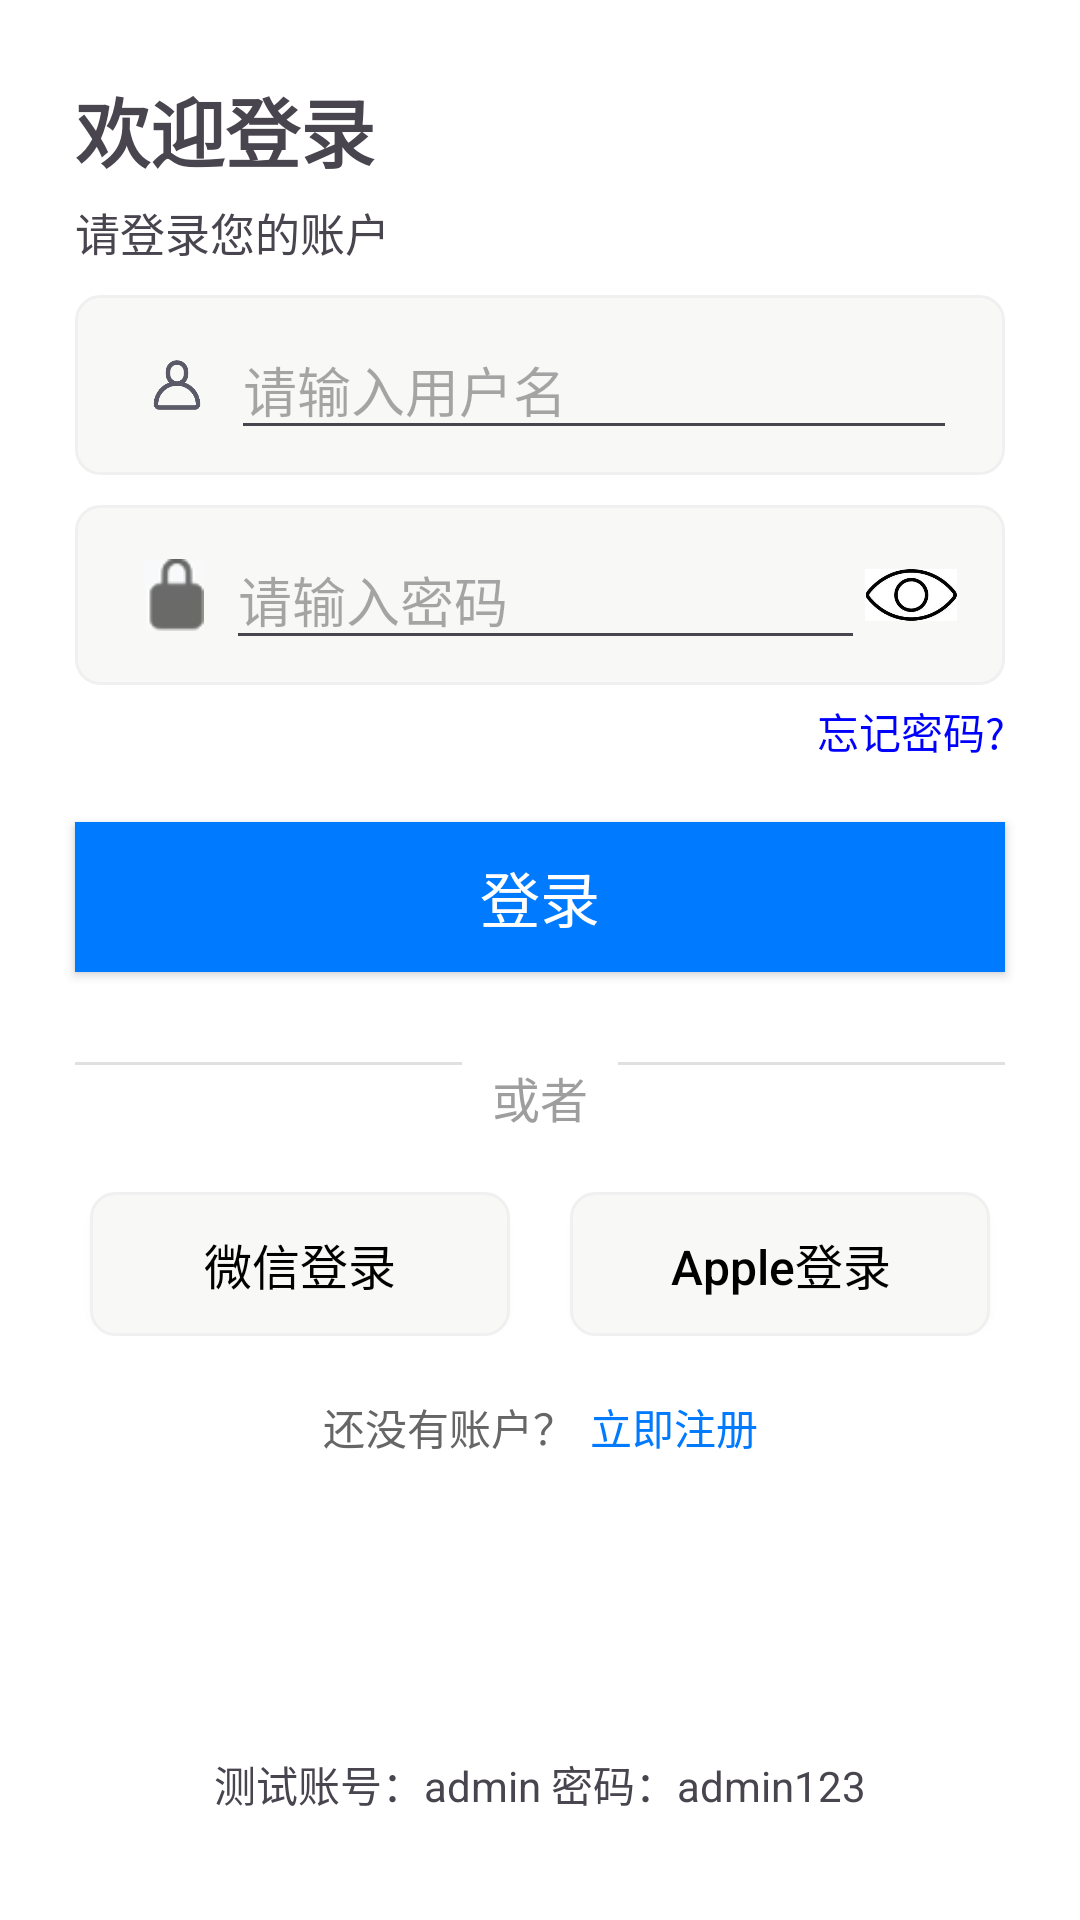

Point at icon controls on the screen. Image size 1080x1920, points as (x,y).
hide pwd: (911,595)
lock: (176,595)
person: (177,385)
